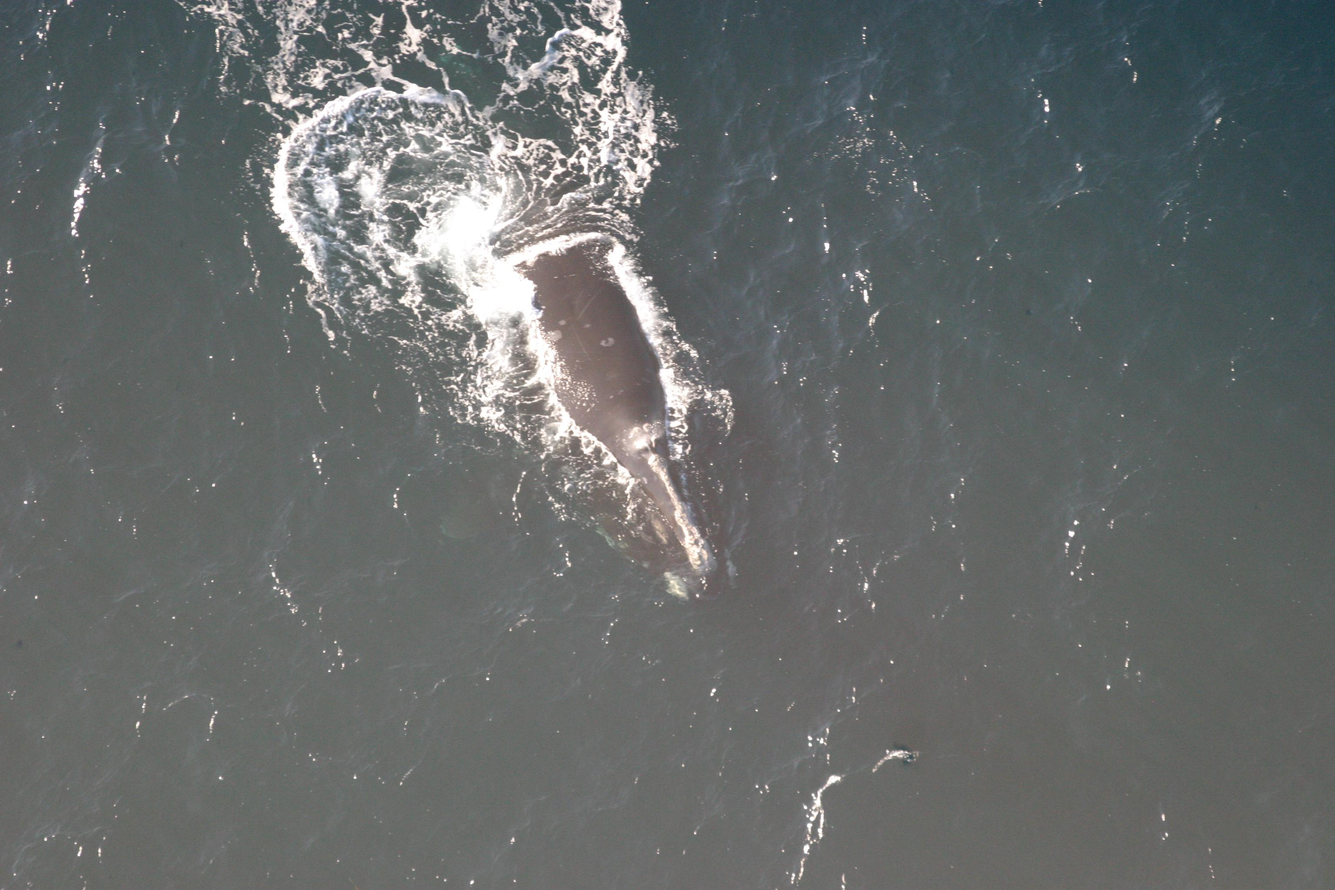whale: (377, 0, 751, 611)
